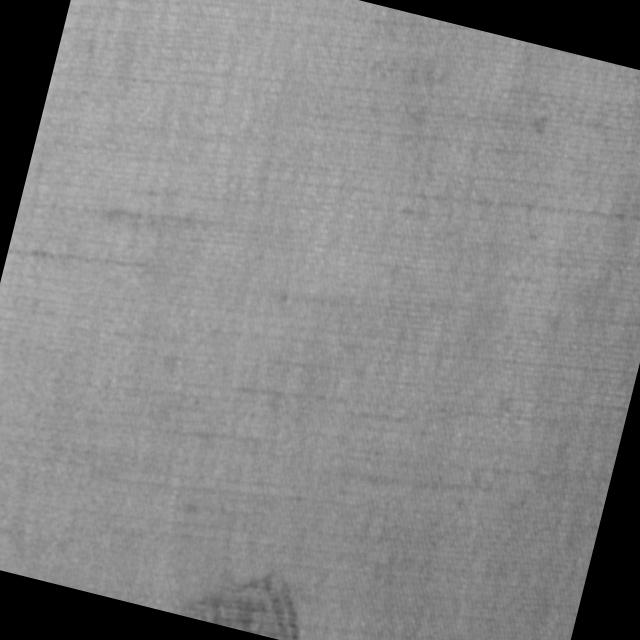oil spot: (176, 542, 320, 640)
